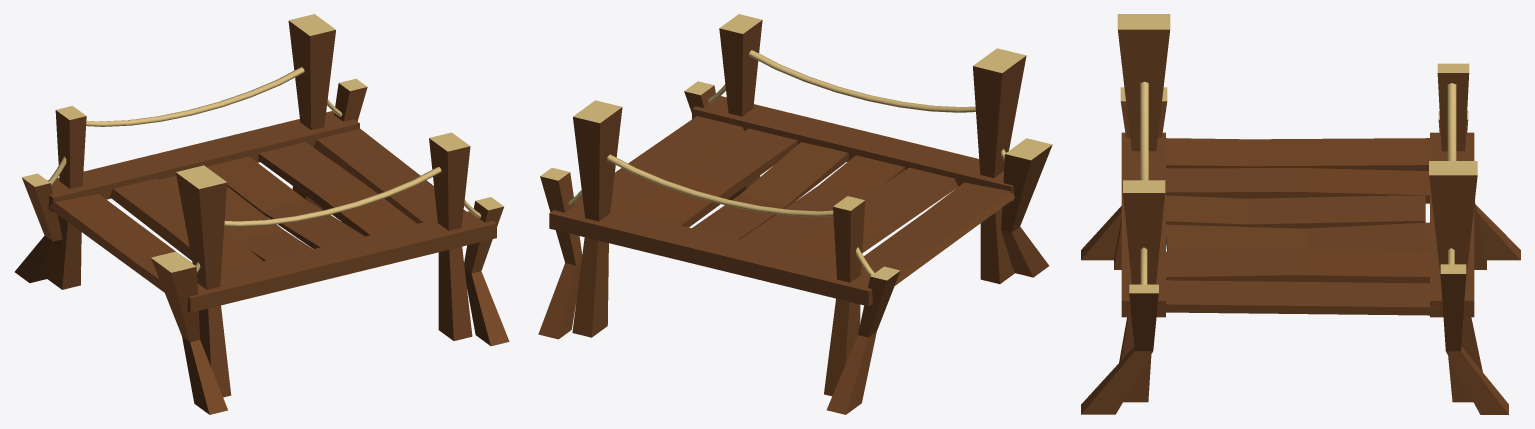
File: PONT.fbx
3 views of the same model, side by side, from view 1: azimuth 30°, elevation 25°; view 2: azimuth 150°, elevation 25°; view 3: azimuth 270°, elevation 25° (orthographic). The views are drawn at different scales.
Visible parts, largest first — view 1: Plane.154; view 2: Plane.154; view 3: Plane.154.
Boxes of the visible parts, left/top/right/bottom form: Plane.154: left=15, top=14, right=509, bottom=414; Plane.154: left=538, top=14, right=1052, bottom=414; Plane.154: left=1081, top=14, right=1520, bottom=414.
Bounding box in the file's own units: 5 × 5 × 3.
